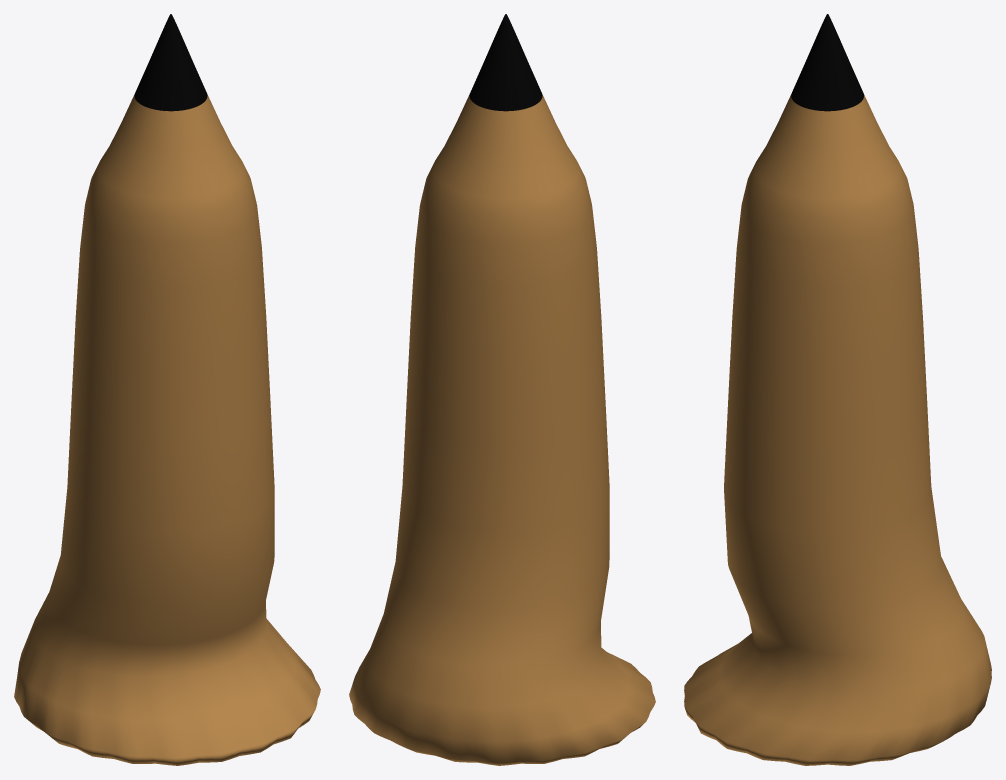
Rendered from kahverengi.fbx.
3 renders of one model, left to right at view 1: azimuth 30°, elevation 25°; view 2: azimuth 150°, elevation 25°; view 3: azimuth 270°, elevation 25°, orthographic.
Visible parts, largest first — view 1: pCylinder1; view 2: pCylinder1; view 3: pCylinder1.
Boxes of the visible parts, <box> form: pCylinder1: <box>14,14,320,765</box>; pCylinder1: <box>349,14,655,765</box>; pCylinder1: <box>684,14,991,765</box>.
Bounding box in the file's own units: 4.41 × 11.12 × 4.46.
